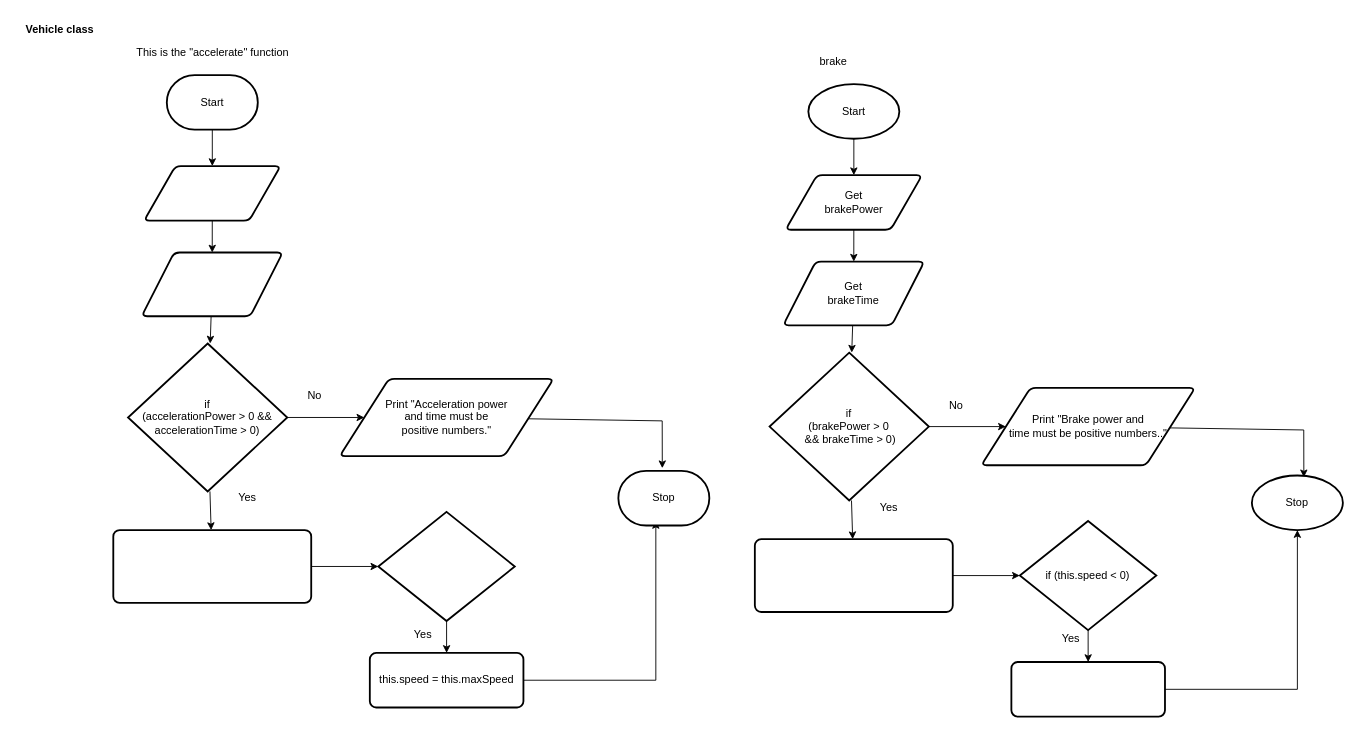
Image size: 1360x733. Some labels were removed from this diagram. The shapes that lost their labels are listed below. From the top down, each one's centre as x and y in pixels, then its label:
At point 212,193: "Get accelerationPower".
At point 211,284: "Get accelerationTime".
At point 212,566: "this.speed = (accelerationPower * accelerationTime) + this.speed".
At point 446,566: "if (this.speed > this.maxSpeed)".
At point 853,575: "this.speed = this.speed - (brakePower * brakeTime)".
At point 1087,689: "this.speed = 0".
